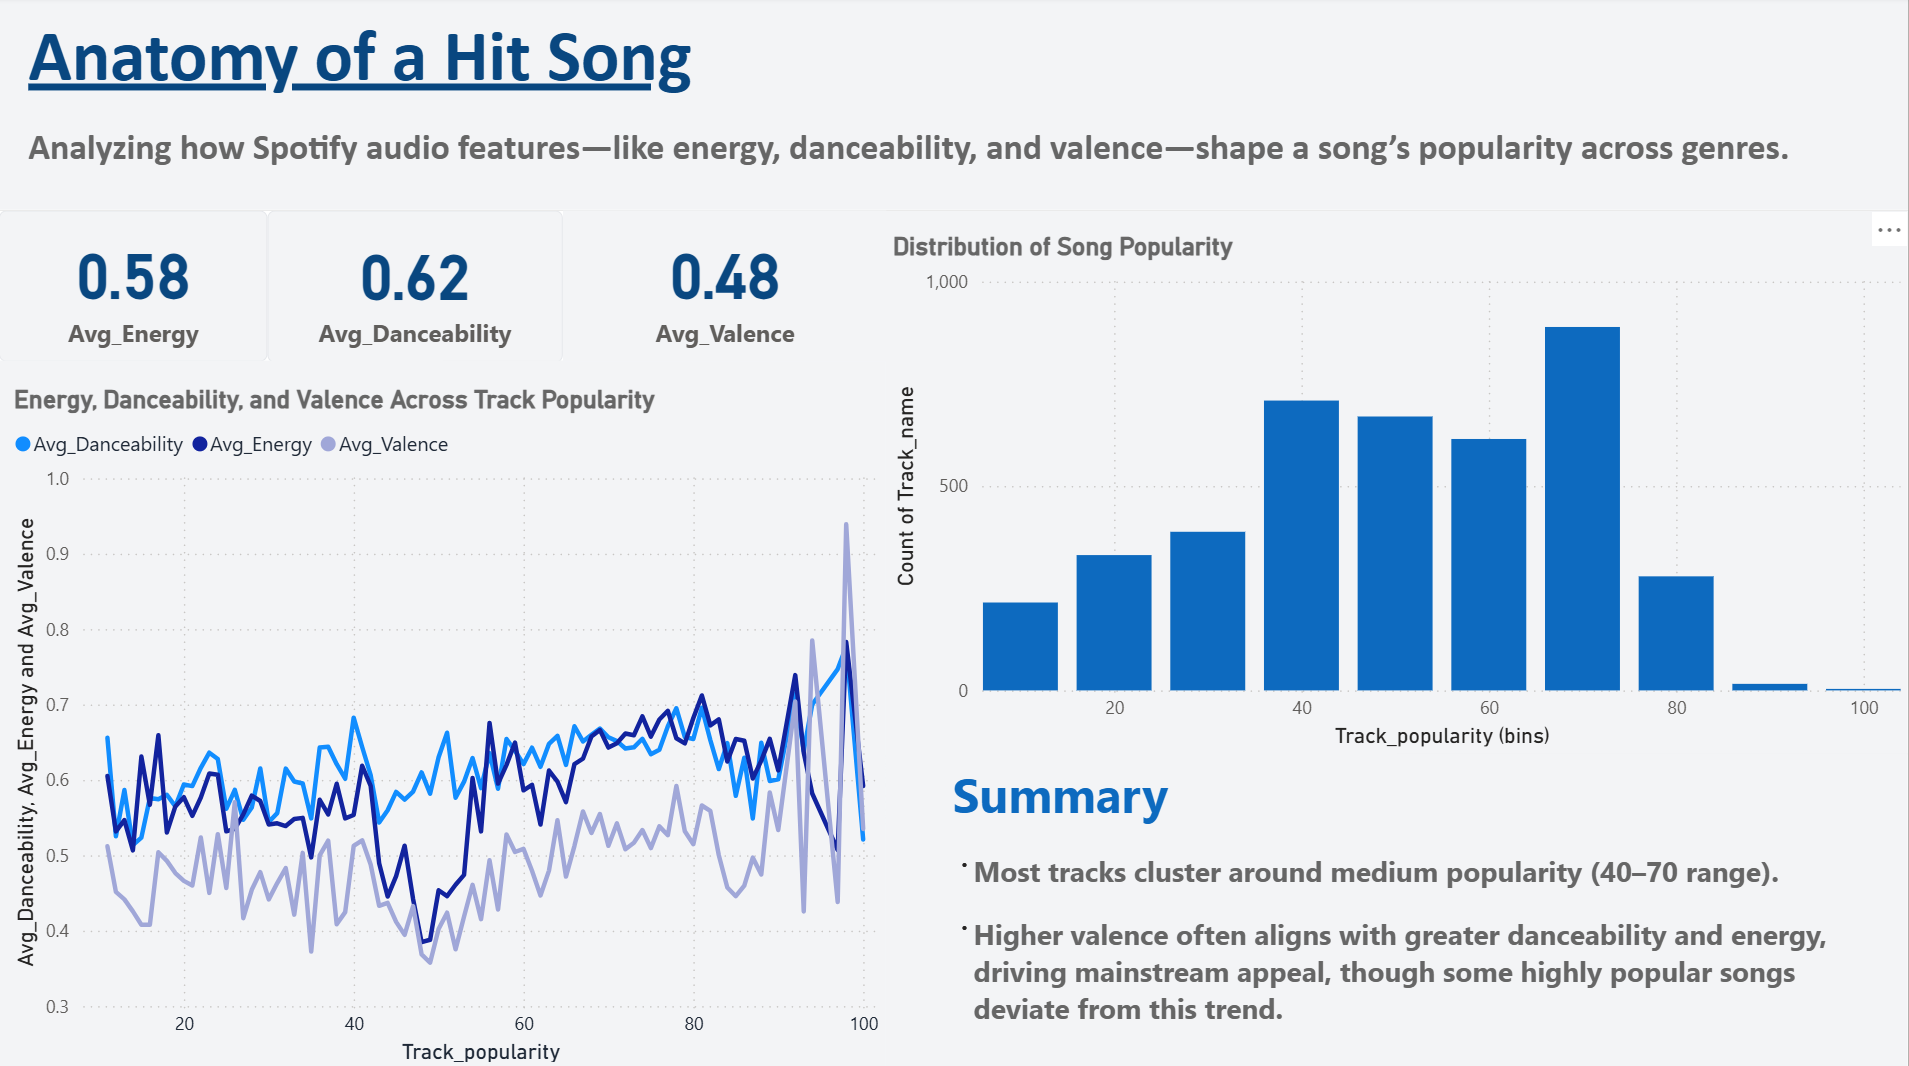

The page's visual inventory and layout, read from the dashboard file:
{"tool":"powerbi","page":{"name":"Anatomy of a Hit Song","canvas":[1280,720],"ordinal":0},"visuals":[{"type":"card","fields":{"Values":["_Measures.Avg_Energy"]},"box":[0,143.3,180,101.1],"z":0},{"type":"card","fields":{"Values":["_Measures.Avg_Danceability"]},"box":[180,143.3,197.8,102.2],"z":1000},{"type":"lineChart","title":"Energy, Danceability, and Valence Across Track Popularity","fields":{"Y":["_Measures.Avg_Danceability","_Measures.Avg_Energy","_Measures.Avg_Valence"],"Category":["Spotify_data.Track_popularity"]},"box":[0,244.4,594.4,475.6],"z":2000},{"type":"columnChart","title":"Distribution of Song Popularity","fields":{"Category":["Spotify_data.Track_popularity (bins)"],"Y":["CountNonNull(Spotify_data.Track_name)"]},"box":[594.4,143.3,685.6,364.4],"z":3000},{"type":"textbox","box":[0,0,1280,143.3],"z":4000},{"type":"textbox","box":[594.4,507.8,685.6,212.2],"z":5000},{"type":"card","fields":{"Values":["_Measures.Avg_Valence"]},"box":[377.8,143.3,216.7,101.1],"z":6000}]}

Visuals, with their boxes in screenshot pixels (x1, y1, x2, y2), scaled from the page's 1280x720 canvas onto the 1909x1066 screenshot:
card - _Measures.Avg_Energy: [0,212,268,362]
card - _Measures.Avg_Danceability: [268,212,563,363]
"Energy, Danceability, and Valence Across Track Popularity" lineChart: [0,362,886,1065]
"Distribution of Song Popularity" columnChart: [886,212,1908,752]
textbox: [0,0,1908,212]
textbox: [886,752,1908,1065]
card - _Measures.Avg_Valence: [563,212,887,362]
